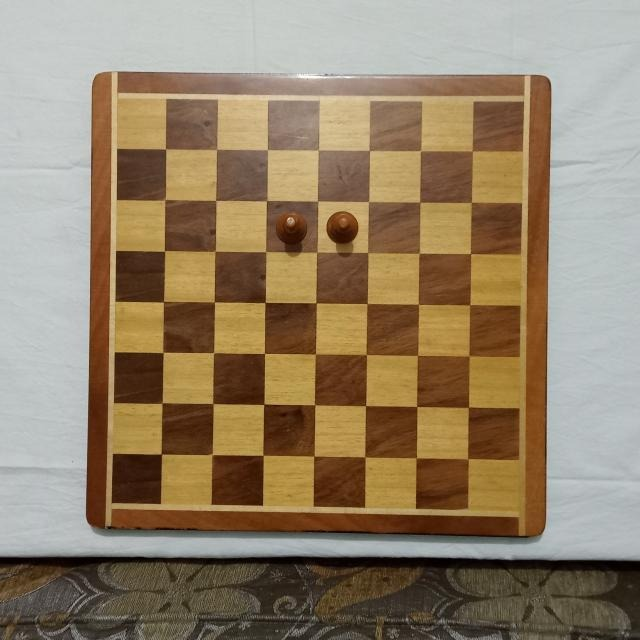white-pawn: (324, 211, 359, 245), (276, 211, 310, 246)
